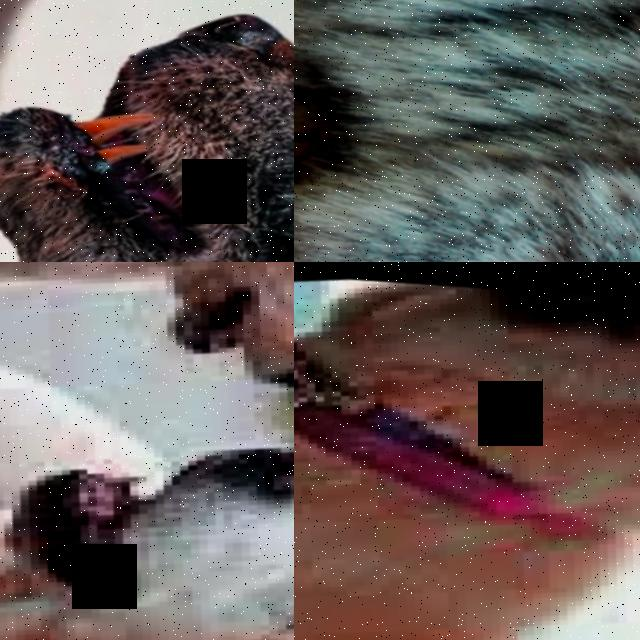dog: (294, 262, 640, 640), (0, 264, 294, 640), (0, 262, 294, 479)
wolf: (294, 0, 640, 262), (0, 0, 294, 262)
